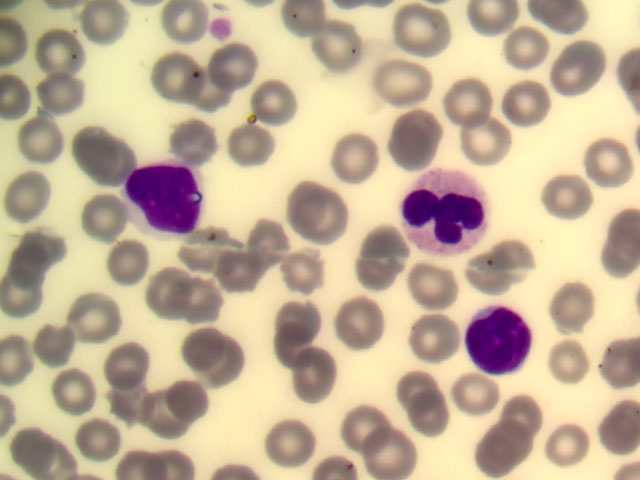Platelets: (211, 18, 230, 40)
RBC: (590, 398, 640, 463), (588, 212, 638, 277), (35, 28, 90, 81), (31, 61, 86, 114), (10, 110, 65, 163), (62, 122, 117, 175), (9, 167, 64, 220), (83, 190, 138, 243), (95, 228, 150, 281), (12, 223, 67, 276), (1, 268, 56, 321), (68, 288, 123, 341), (35, 312, 90, 365), (45, 367, 100, 420), (8, 427, 63, 480), (65, 416, 120, 469), (105, 378, 160, 431), (109, 345, 164, 398), (136, 261, 191, 314), (170, 276, 225, 329), (171, 320, 226, 373), (191, 337, 246, 390), (164, 369, 219, 422), (139, 388, 194, 441), (261, 415, 316, 468), (291, 351, 346, 404), (263, 321, 318, 374), (274, 296, 329, 349), (278, 249, 333, 302), (244, 207, 299, 260), (218, 245, 273, 298), (186, 222, 241, 275), (300, 186, 355, 239), (225, 120, 280, 173), (168, 113, 223, 166), (244, 80, 299, 133), (212, 39, 267, 92), (186, 58, 241, 111), (152, 51, 207, 104), (153, 1, 208, 54), (331, 125, 386, 178), (384, 118, 439, 171), (381, 61, 436, 114), (312, 23, 367, 76), (275, 3, 330, 56), (397, 9, 452, 62), (445, 71, 500, 124), (465, 112, 520, 165), (501, 69, 556, 122), (502, 27, 557, 80), (469, 1, 524, 54), (552, 43, 607, 96), (585, 131, 640, 184), (542, 168, 597, 221), (489, 233, 544, 286), (467, 252, 522, 305), (404, 260, 459, 313), (356, 254, 411, 307), (356, 216, 411, 269), (338, 300, 393, 353), (412, 310, 467, 363), (390, 359, 445, 412), (412, 391, 467, 444), (360, 427, 415, 480), (77, 1, 132, 53), (343, 402, 391, 446), (454, 368, 502, 412), (471, 436, 519, 480), (488, 417, 536, 461), (493, 391, 541, 435), (545, 424, 593, 468), (546, 344, 594, 388), (554, 287, 602, 331), (592, 341, 640, 385)
WBC: (400, 165, 490, 259), (127, 155, 207, 238), (463, 303, 532, 373)
